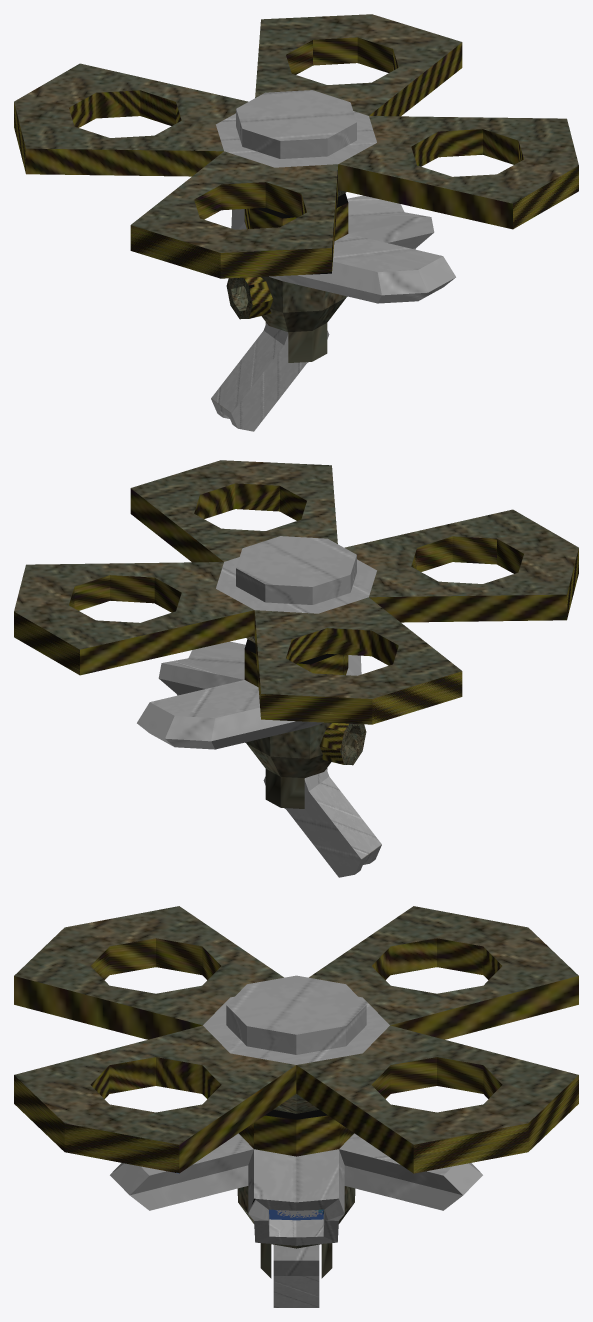
The model's file is securityDrone.glb.
3 renders of one model, top to bottom at view 1: azimuth 30°, elevation 25°; view 2: azimuth 150°, elevation 25°; view 3: azimuth 270°, elevation 25°, orthographic. The views are drawn at different scales.
Parts seen in each view (by area): view 1: droneBody, gun; view 2: droneBody, gun; view 3: droneBody, gun.
Boxes of the visible parts, <box> form: droneBody: <box>14,14,578,362</box>; gun: <box>211,323,329,431</box>; droneBody: <box>14,460,578,808</box>; gun: <box>263,769,381,877</box>; droneBody: <box>14,906,578,1278</box>; gun: <box>273,1244,319,1307</box>.
Size of the model in its own units: 13.51 by 8.75 by 13.51.
Materials: 1 (1 with a texture image).
